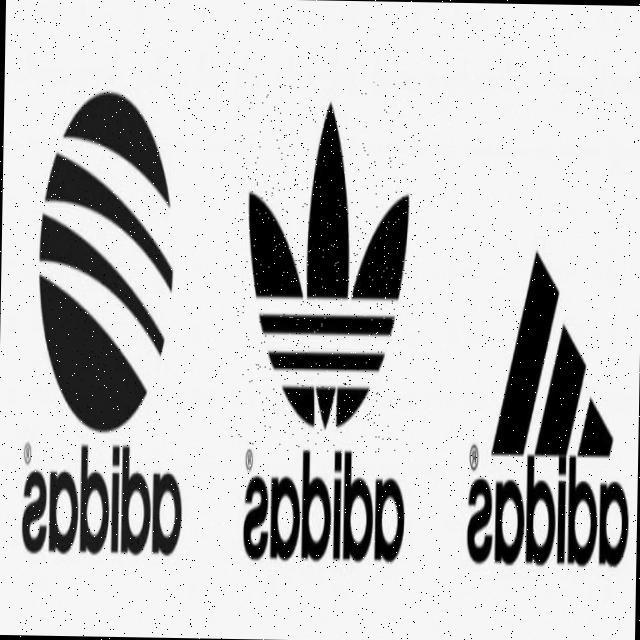Adidas: (231, 76, 423, 453)
